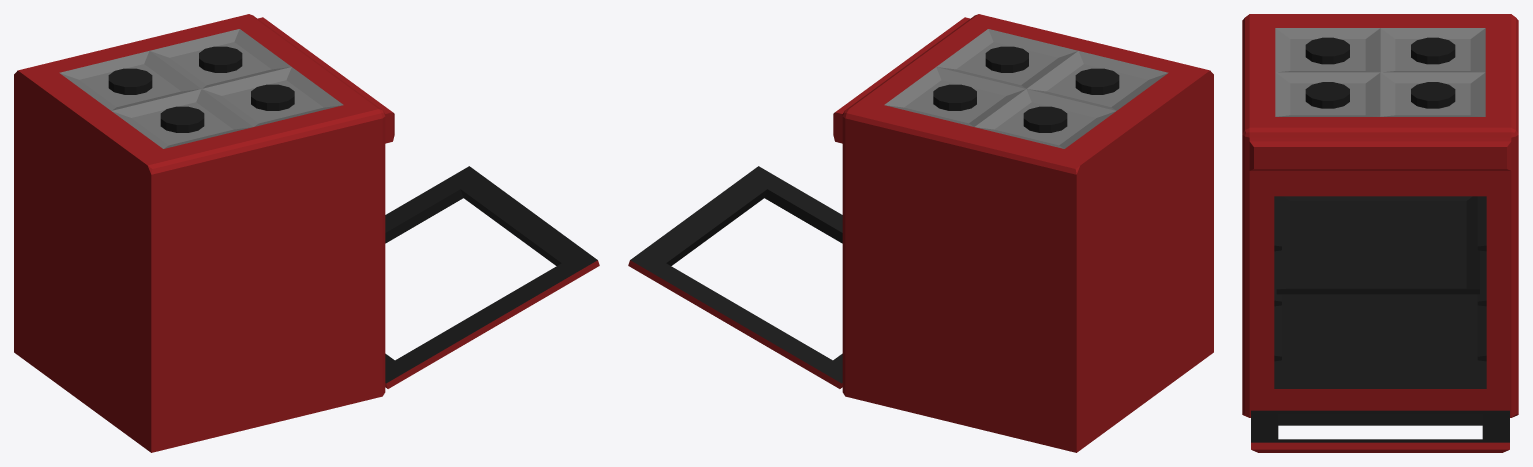
Rendered from horno1.glb.
3 views of the same model, side by side, from view 1: azimuth 30°, elevation 25°; view 2: azimuth 150°, elevation 25°; view 3: azimuth 270°, elevation 25° (orthographic).
Parts seen in each view (by area): view 1: Horno, Puerta; view 2: Horno, Puerta; view 3: Horno, Bandeja, Puerta.
Part boxes in pixels (box(x1,y1,x2,y2)): Horno: box(14, 14, 394, 452); Puerta: box(385, 166, 599, 388); Horno: box(833, 14, 1213, 452); Puerta: box(628, 166, 842, 388); Horno: box(1242, 14, 1518, 417); Bandeja: box(1276, 196, 1479, 294); Puerta: box(1251, 410, 1509, 452).
Size of the model in its own units: 3.81 by 2.32 by 2.
3 materials, 1 textured.
